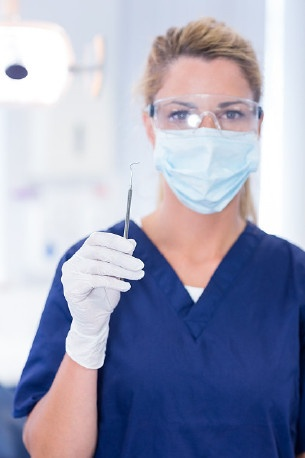Mask: (150, 93, 265, 209)
